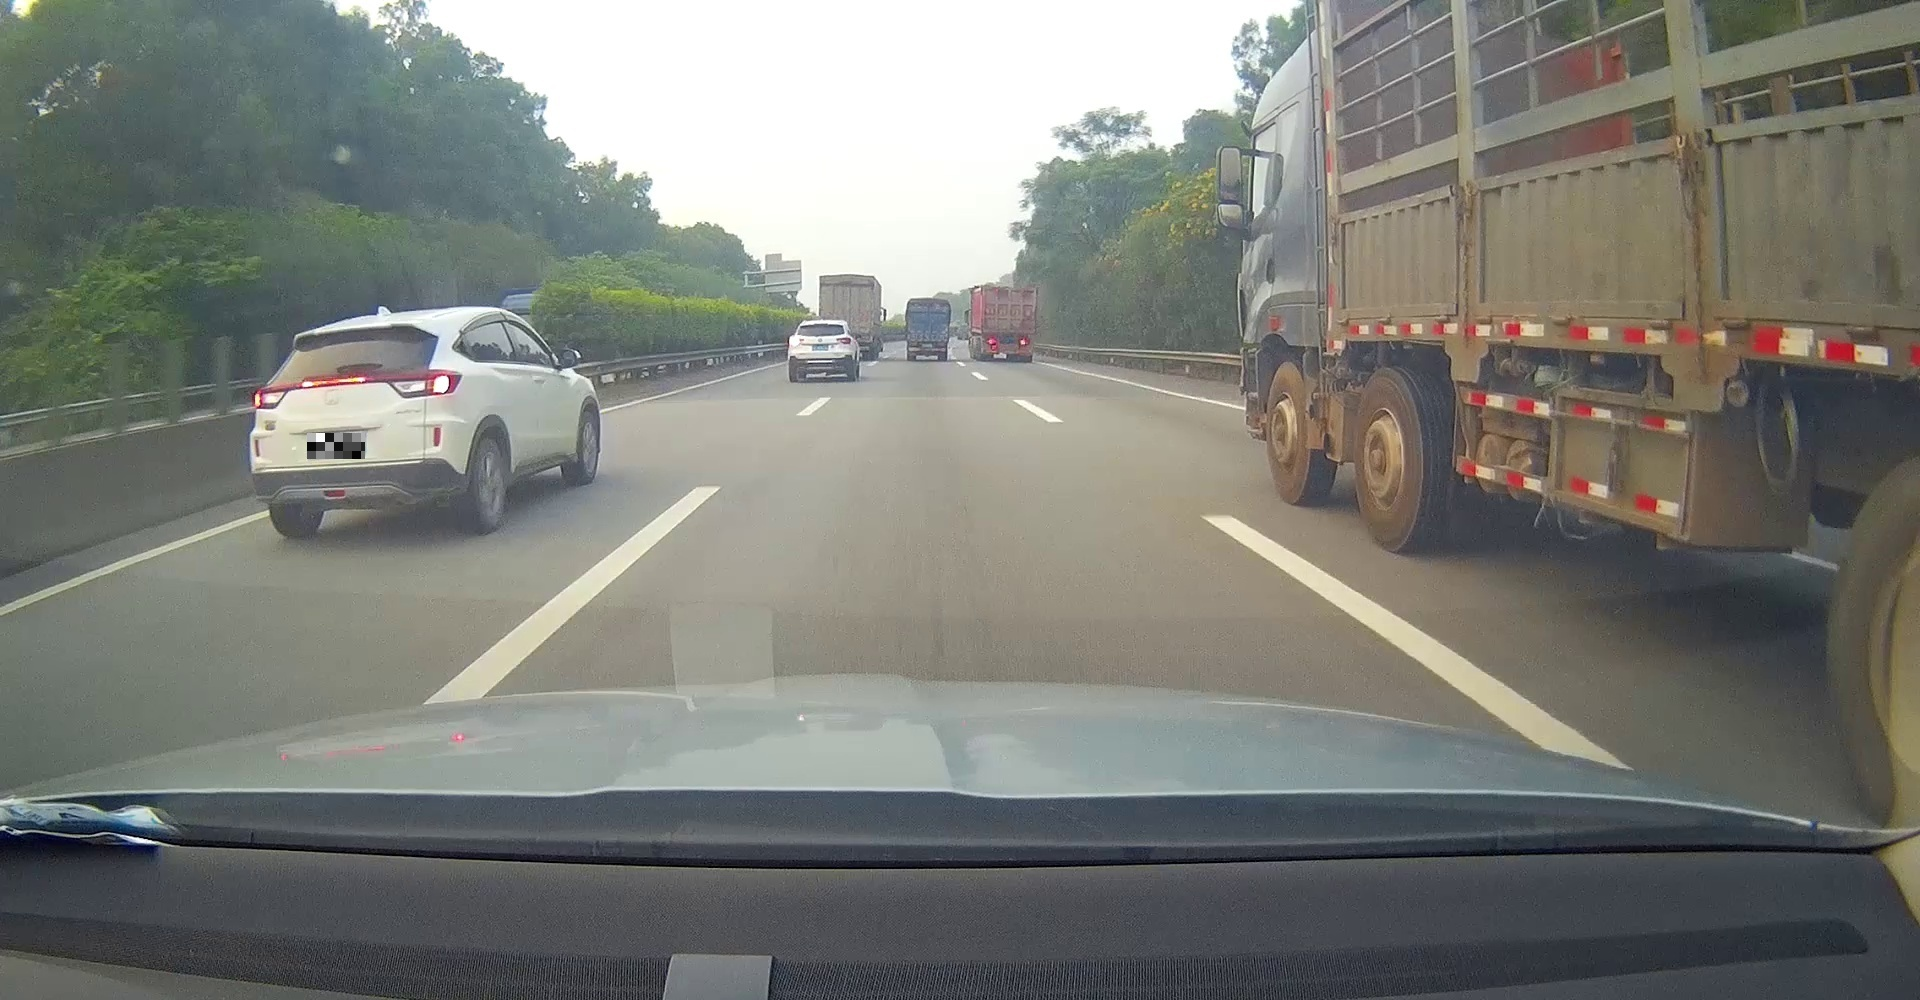L_light: (253, 385, 288, 409), (789, 338, 803, 344), (987, 339, 997, 344), (910, 343, 918, 346)
R_light: (387, 369, 462, 398), (836, 338, 852, 345), (1018, 339, 1029, 344), (937, 343, 946, 346)
T_light: (301, 376, 367, 390), (814, 324, 828, 327), (1004, 289, 1015, 293), (924, 303, 933, 306)
day-brake: (249, 315, 467, 539), (980, 286, 1037, 360)
day-left: (787, 320, 856, 382)
day-no: (905, 298, 951, 360)
plate_1: (307, 433, 364, 459)
